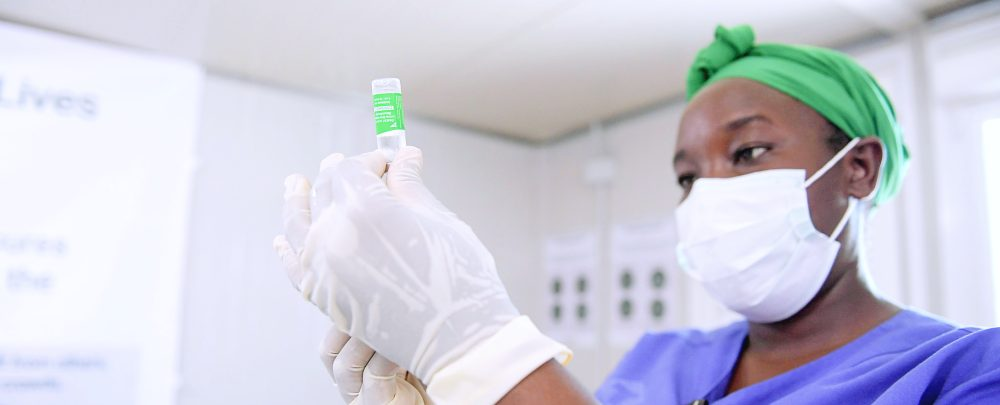with_mask: (677, 104, 810, 287)
